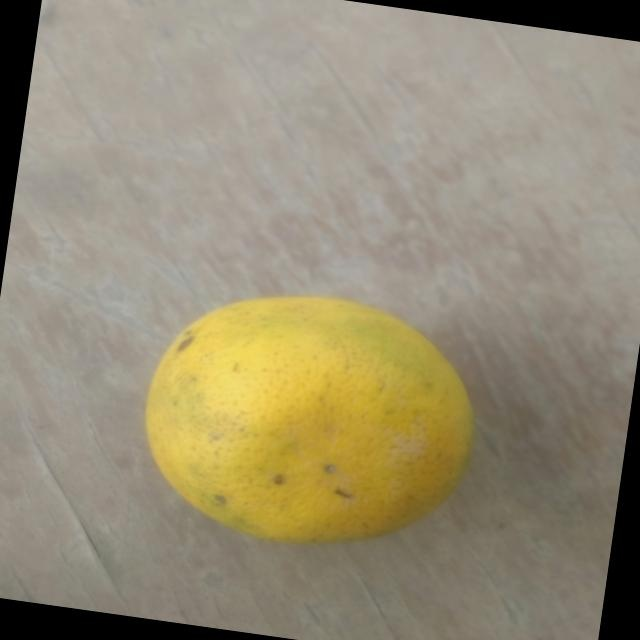agrume: (107, 262, 502, 582)
